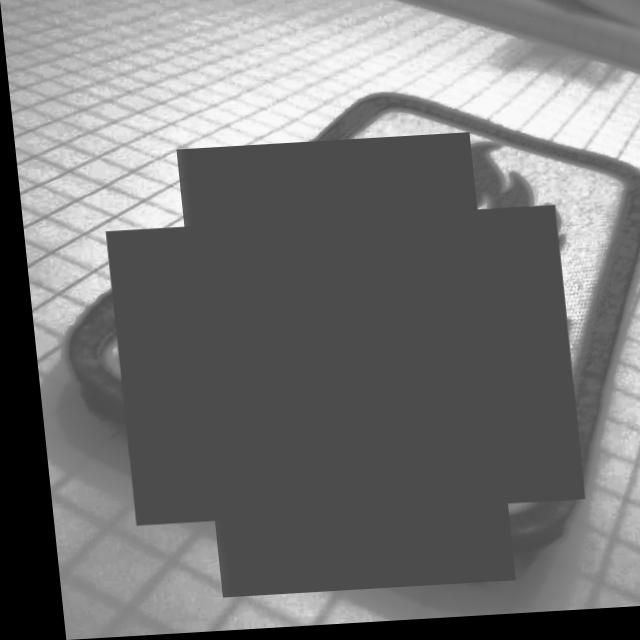qr_code: (136, 175, 538, 563)
